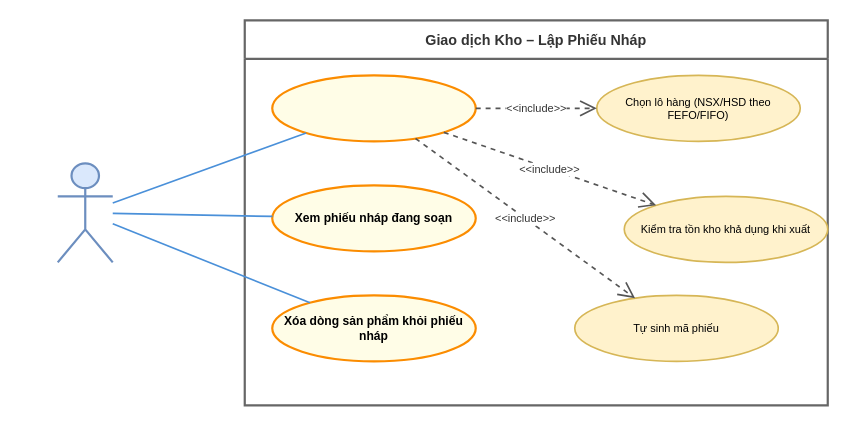
Image size: 847x425. Some labels were removed from this diagram. Each missing label, with the centre of its shape:
"Lập phiếu kho nháp" belongs at point 373,108.
"Nhân viên kho (STAFF)" belongs at point 84,212.
